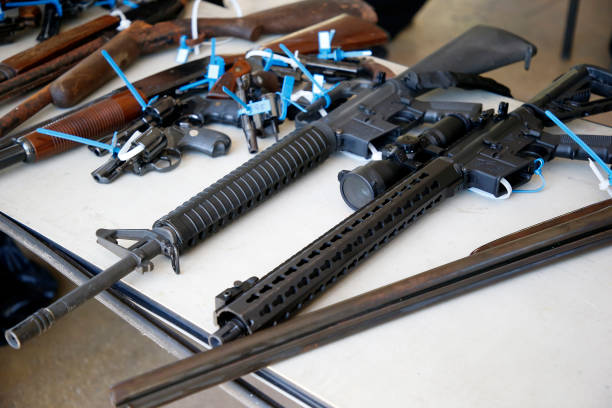rifle: (1, 17, 546, 343), (205, 56, 608, 348)
